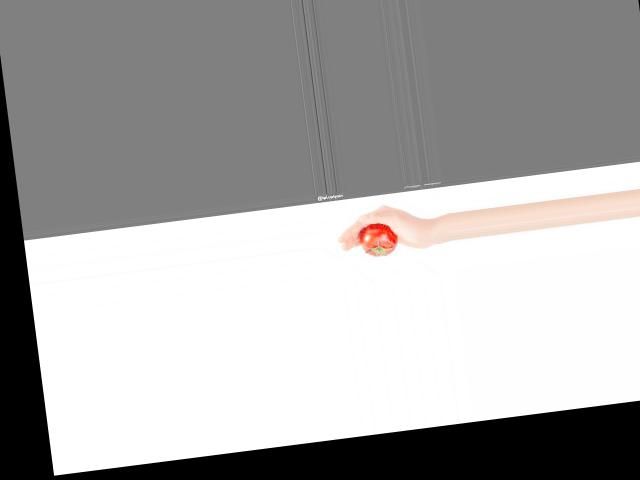tomato: (359, 221, 400, 257)
